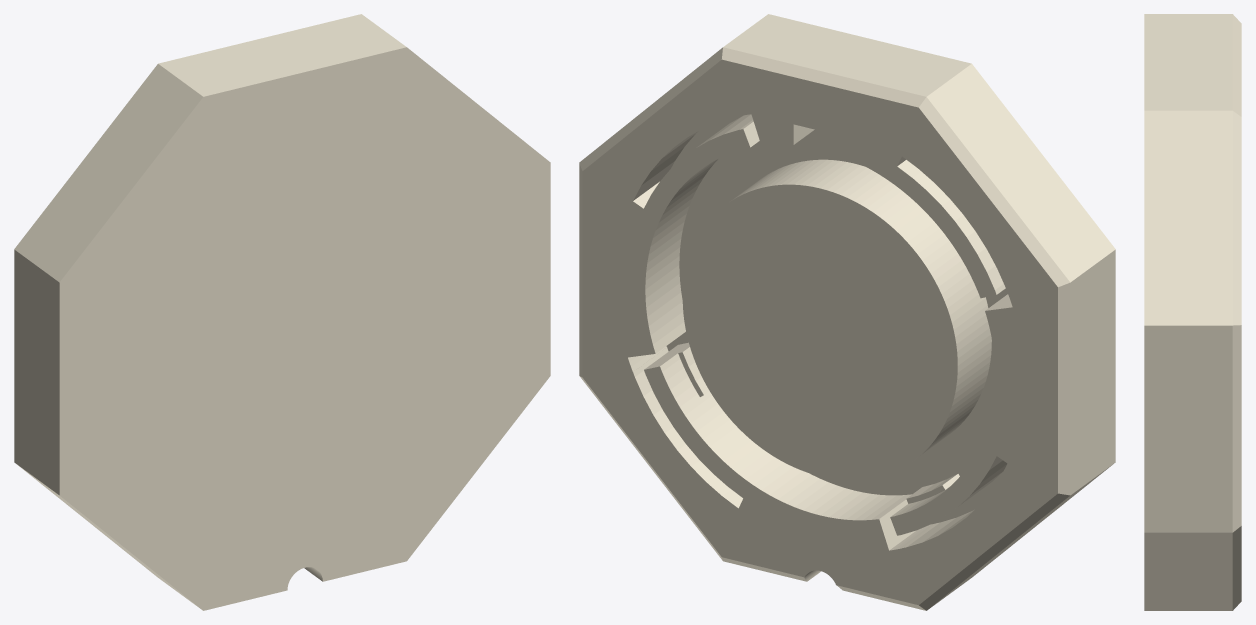
The model's file is coupon-if2-socket-10@ivory.glb.
3 renders of one model, left to right at view 1: azimuth 30°, elevation 25°; view 2: azimuth 150°, elevation 25°; view 3: azimuth 270°, elevation 25°, orthographic. The views are drawn at different scales.
Visible parts, largest first — view 1: geometry_0; view 2: geometry_0; view 3: geometry_0.
Part boxes in pixels (x1,y1,x2,y2): geometry_0: (14,14,550,610); geometry_0: (579,14,1115,610); geometry_0: (1144,14,1241,610).
Bounding box in the file's own units: 25 × 25 × 4.4.
